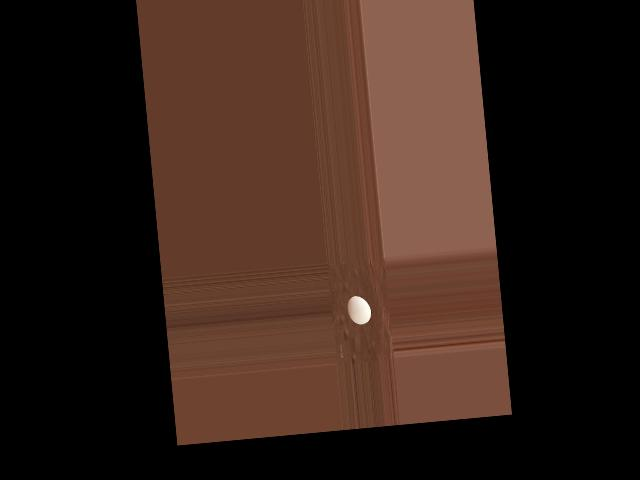egg: (346, 294, 371, 325)
